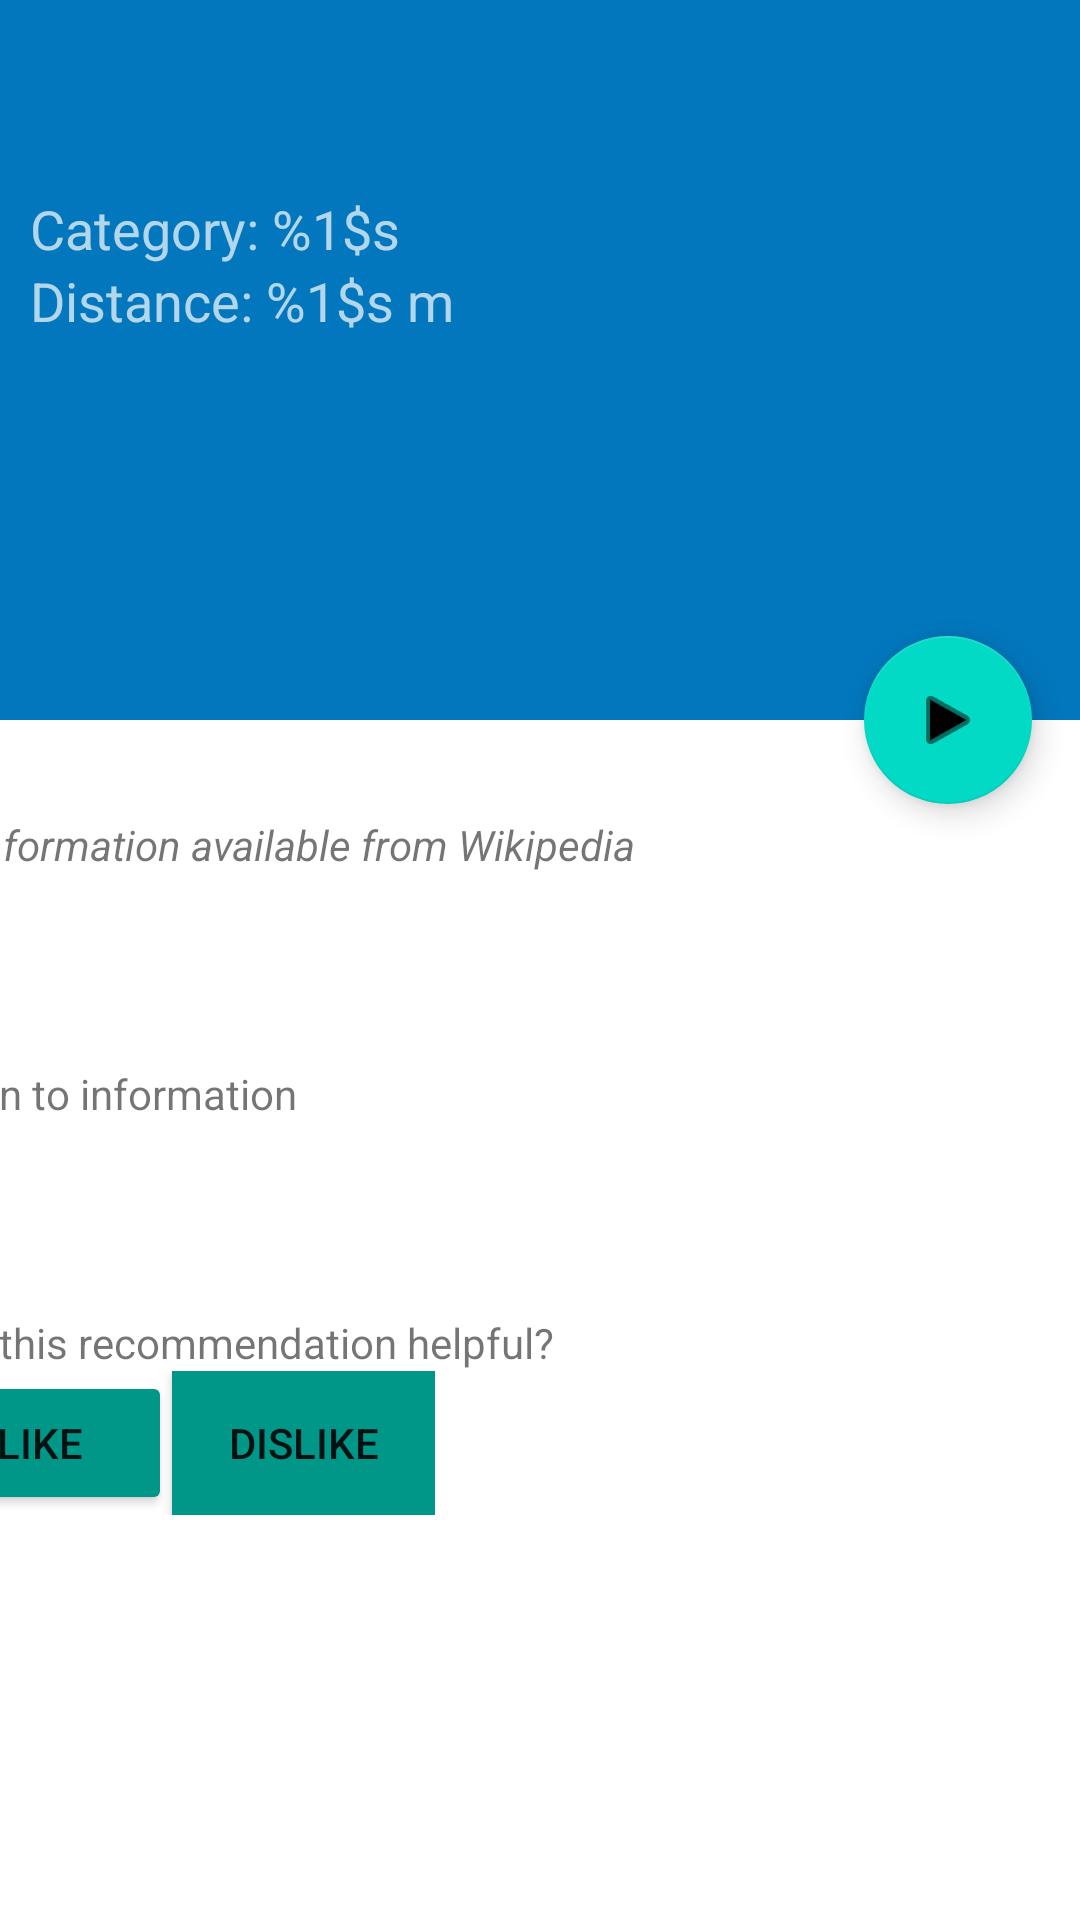

Screen size 1080x1920. Icon name, then its center in pixels as (x,y):
play: (948,720)
